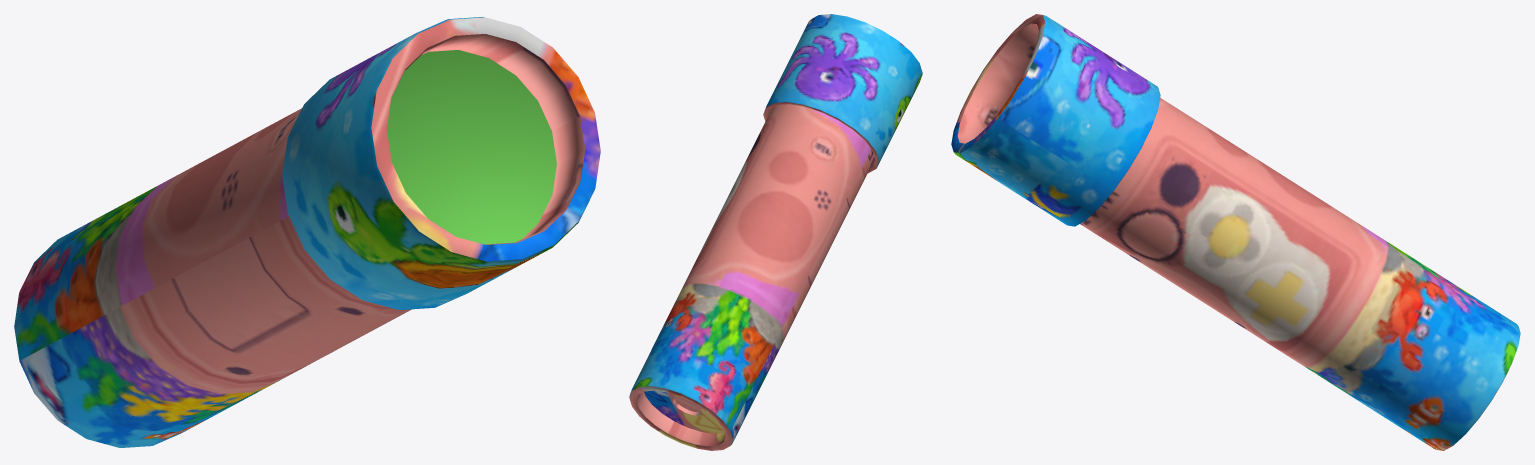
The model's file is ref_gtkaleidoscope.fbx.
3 views of the same model, side by side, from view 1: azimuth 30°, elevation 25°; view 2: azimuth 150°, elevation 25°; view 3: azimuth 270°, elevation 25° (orthographic). The views are drawn at different scales.
Visible parts, largest first — view 1: ref_gtkaleidoscope; view 2: ref_gtkaleidoscope; view 3: ref_gtkaleidoscope.
Part boxes in pixels (x1,y1,x2,y2): ref_gtkaleidoscope: [14, 17, 600, 447]; ref_gtkaleidoscope: [629, 14, 922, 450]; ref_gtkaleidoscope: [951, 14, 1520, 450].
Bounding box in the file's own units: 29.15 × 81.46 × 100.
